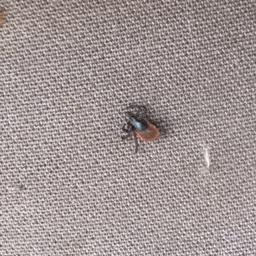Ixodes scapularis: (121, 105, 171, 151)
